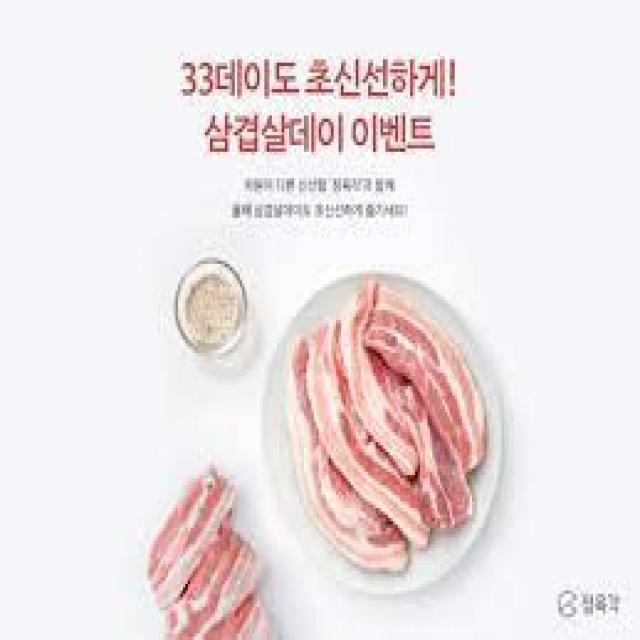Pork: (307, 317, 437, 554), (363, 287, 487, 469)
